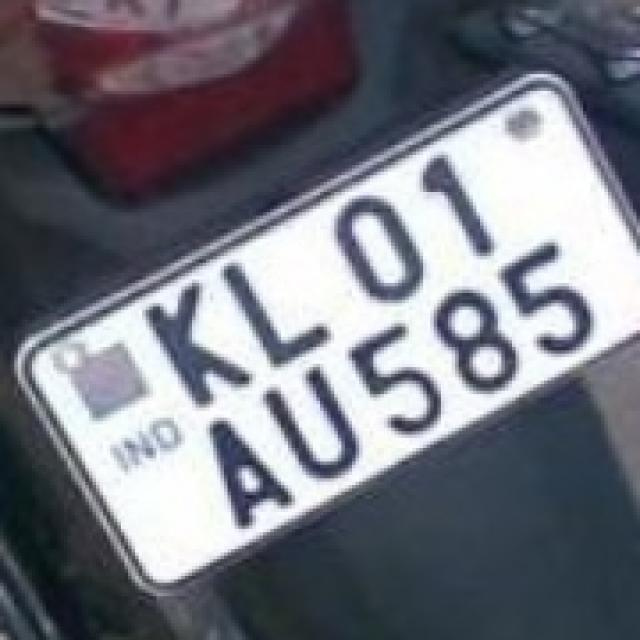0: (316, 178, 448, 316)
1: (405, 139, 516, 267)
5: (340, 312, 461, 447), (494, 231, 611, 367)
8: (420, 275, 535, 408)
A: (192, 407, 304, 541)
K: (140, 273, 260, 413)
L: (209, 237, 340, 381)
U: (252, 356, 375, 491)
